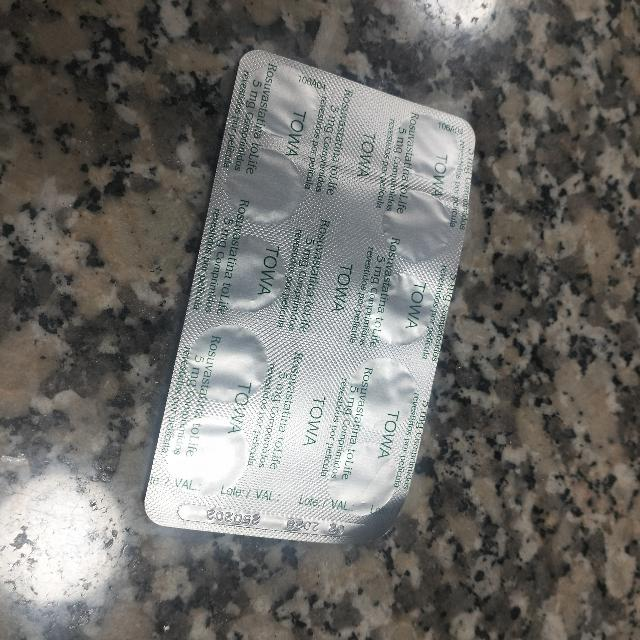blister: (141, 47, 479, 546)
